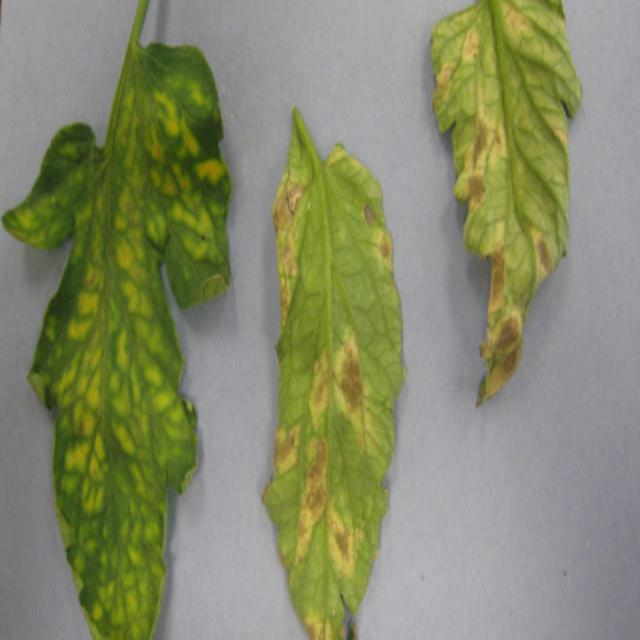Leaf_Mold: (2, 43, 231, 640), (262, 142, 402, 640), (429, 7, 581, 408)
